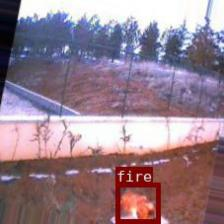fire: (115, 183, 159, 222)
